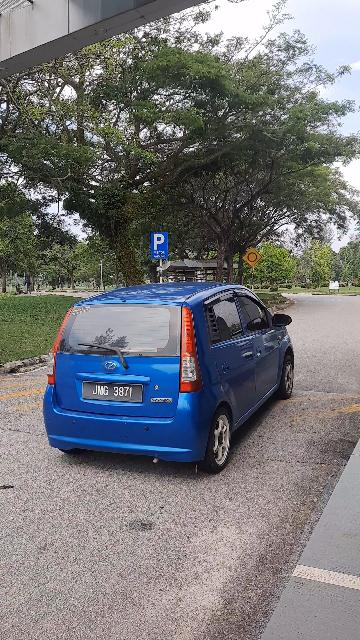License_Plate: (78, 382, 149, 405)
car: (46, 279, 306, 469)
